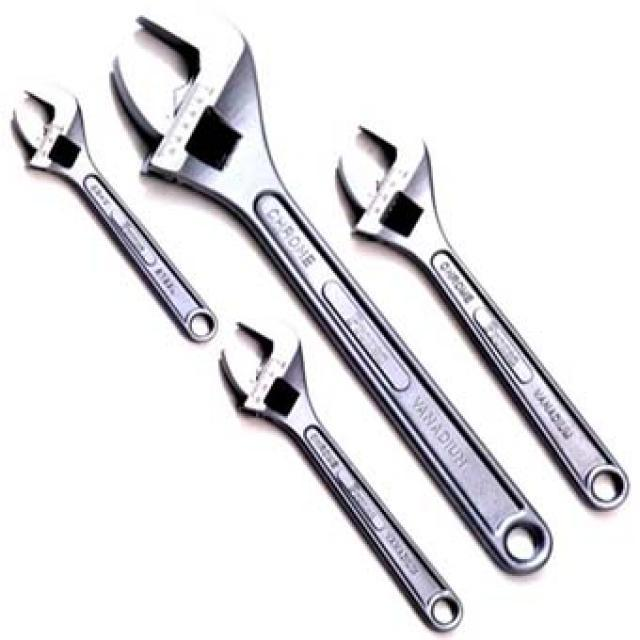wrench: (116, 12, 530, 610), (333, 117, 624, 514), (213, 314, 466, 640), (2, 84, 202, 362)
